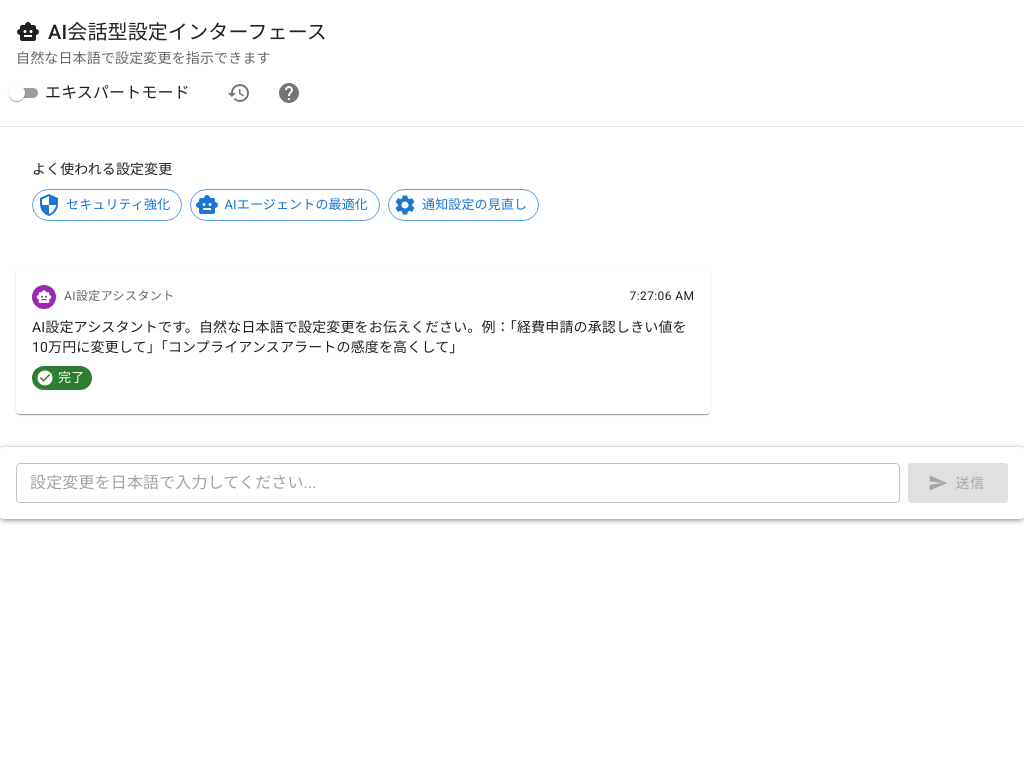
Scenario: AIConfigurationPanel › 基本的なUI要素 › エキスパートモードの切り替えができる
Step 1. Click the checkbox labelled "エキスパートモード" → click(97, 93), box x1=5 y1=81 x2=190 y2=105
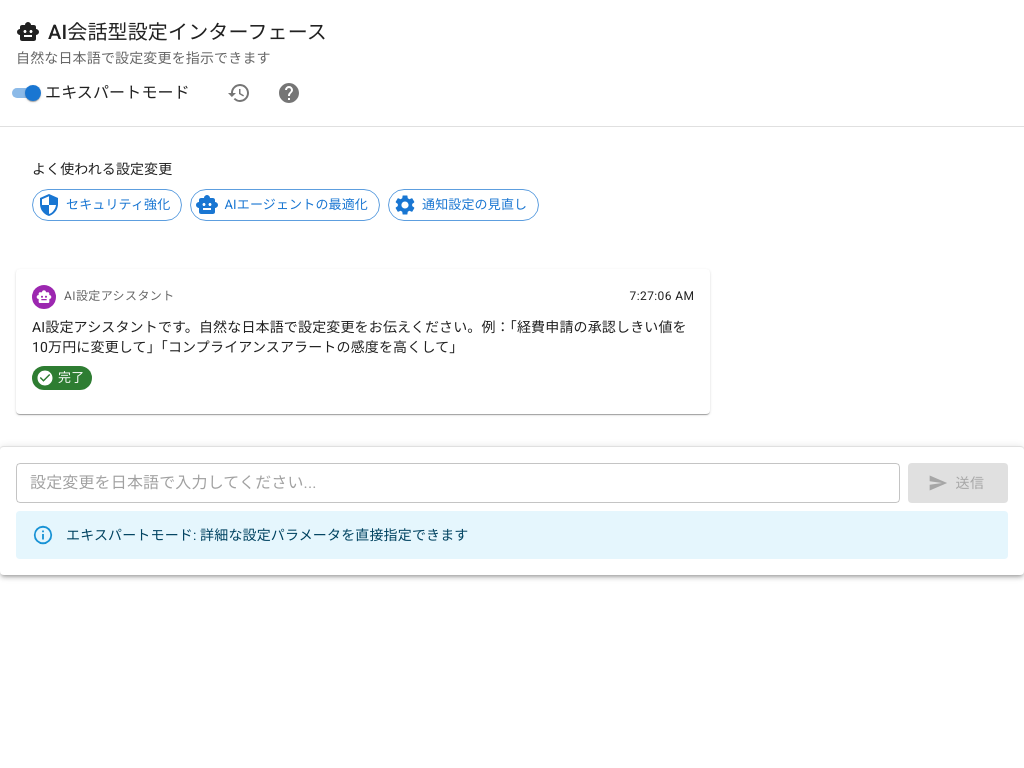
Now the checkbox labelled "エキスパートモード" is checked, box x1=5 y1=81 x2=190 y2=105
Now the text "エキスパートモード: 詳細な設定パラメータを直接指定できます" is shown, box x1=66 y1=527 x2=468 y2=543
